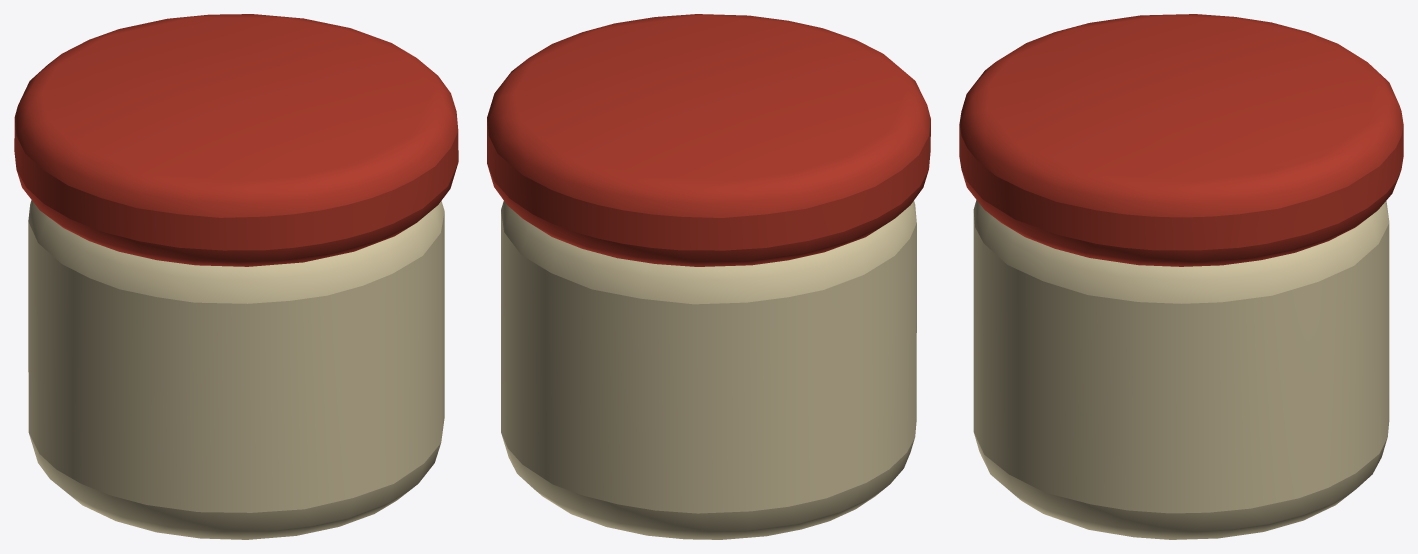
File: hu_men.glb
3 views of the same model, side by side, from view 1: azimuth 30°, elevation 25°; view 2: azimuth 150°, elevation 25°; view 3: azimuth 270°, elevation 25° (orthographic).
Parts seen in each view (by area): view 1: hu_men; view 2: hu_men; view 3: hu_men.
Boxes of the visible parts, x1,y1,x2,y2 form: hu_men: (14,14,458,539); hu_men: (487,14,930,539); hu_men: (959,14,1403,539).
Bounding box in the file's own units: 0.096 × 0.088 × 0.096.
